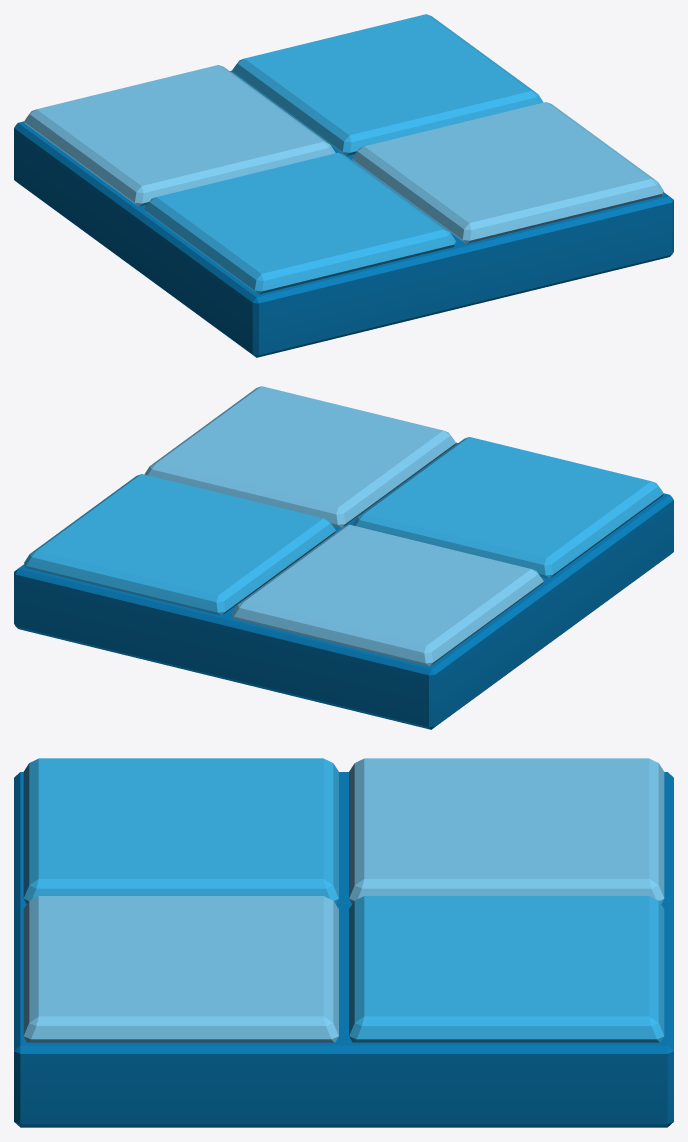
The model's file is ice.glb.
3 views of the same model, one above another, from view 1: azimuth 30°, elevation 25°; view 2: azimuth 150°, elevation 25°; view 3: azimuth 270°, elevation 25° (orthographic). The views are drawn at different scales.
Parts seen in each view (by area): view 1: ice; view 2: ice; view 3: ice.
Part boxes in pixels (left/top/right/bottom): ice: left=14, top=14, right=673, bottom=357; ice: left=14, top=386, right=673, bottom=729; ice: left=14, top=758, right=673, bottom=1127.
Bounding box in the file's own units: 1.46 × 0.252 × 1.46.
